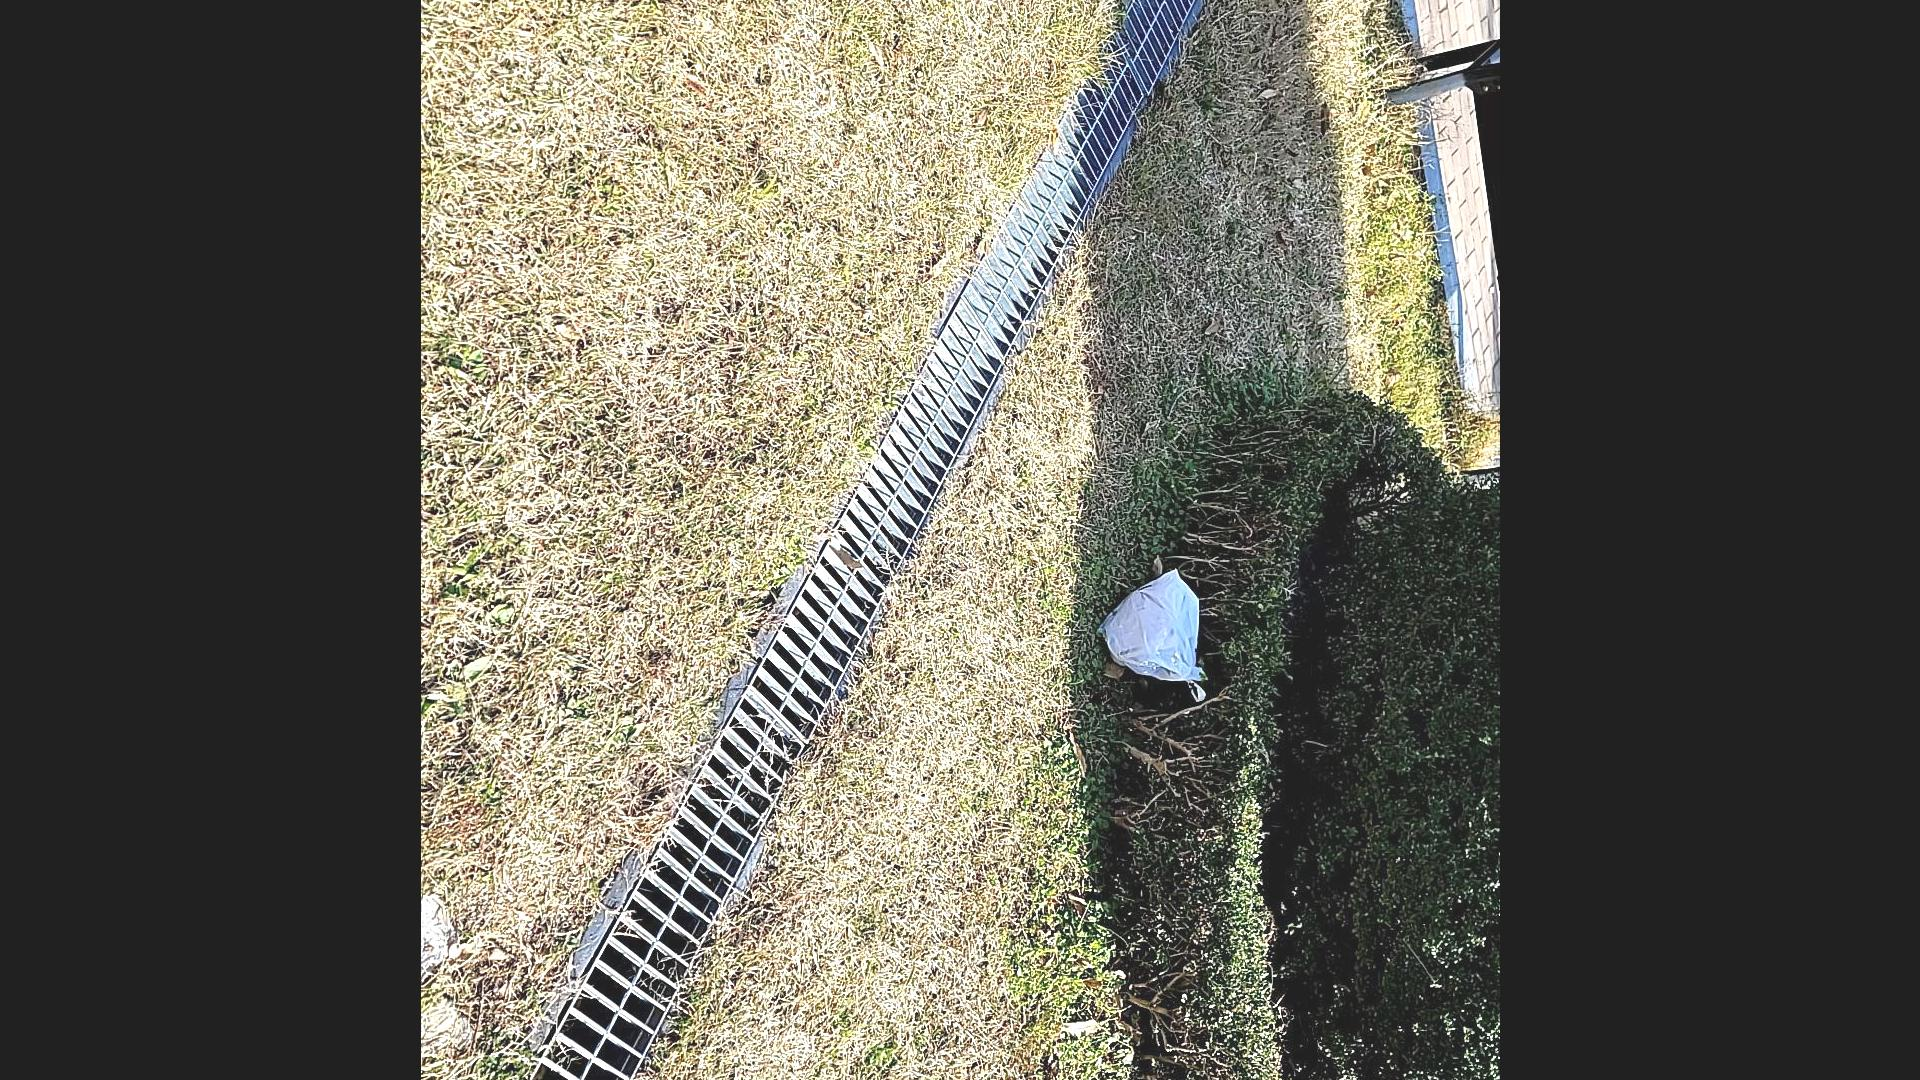white_bag: (1093, 561, 1221, 706)
